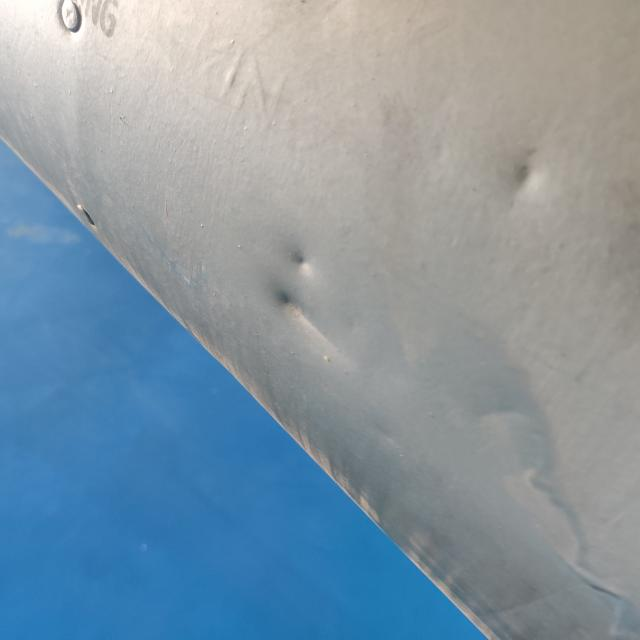dent: (262, 280, 352, 358), (490, 134, 552, 212), (280, 245, 326, 282)
